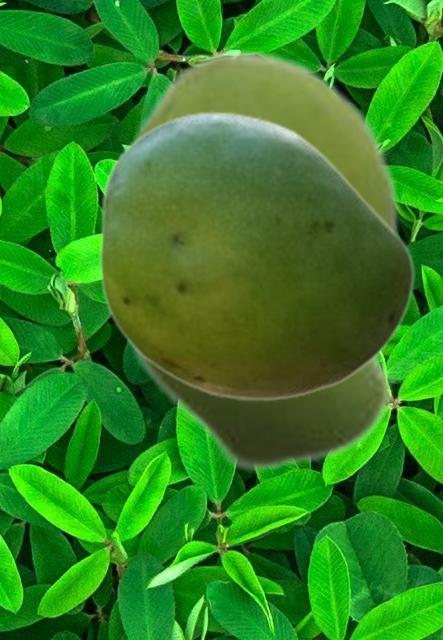green_mango: (120, 48, 401, 474), (98, 110, 414, 401)
